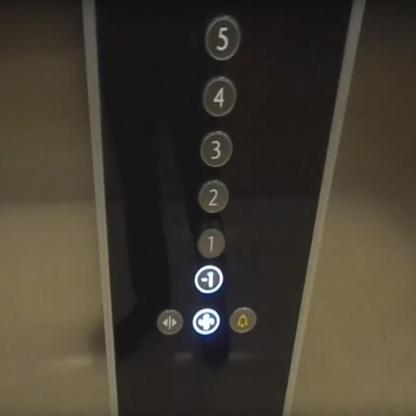-1: (194, 263, 223, 295)
1: (196, 226, 225, 258)
2: (196, 177, 230, 214)
3: (200, 128, 233, 168)
4: (202, 74, 236, 118)
5: (203, 15, 241, 60)
alarm: (228, 305, 257, 334)
fan: (191, 307, 221, 336)
open: (156, 308, 184, 336)
